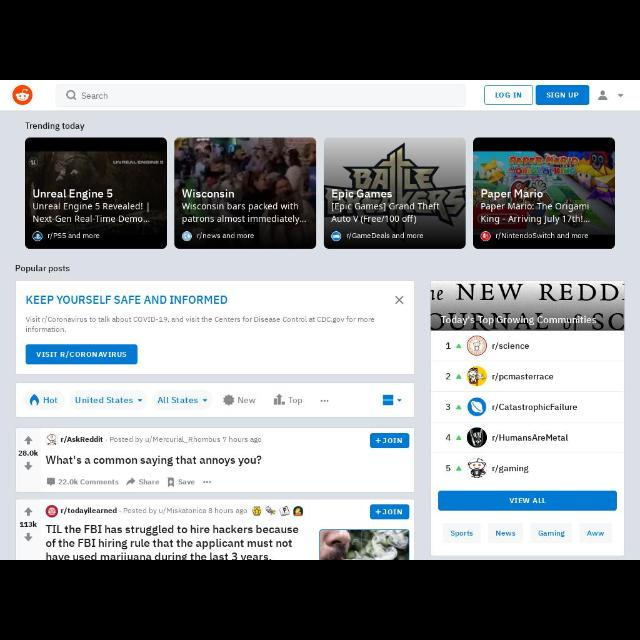icon: (55, 84, 467, 106), (64, 89, 76, 103), (382, 394, 396, 406), (272, 394, 286, 406), (595, 90, 607, 102), (28, 394, 40, 406), (222, 394, 234, 406), (393, 295, 405, 305), (124, 478, 136, 487), (23, 506, 33, 516), (166, 476, 174, 488), (23, 435, 32, 445), (23, 460, 32, 470), (23, 532, 32, 542), (46, 478, 56, 486), (320, 397, 330, 403), (616, 92, 624, 98), (202, 480, 212, 484), (455, 343, 461, 349), (456, 374, 462, 380), (456, 404, 462, 410), (456, 465, 462, 471), (202, 398, 208, 404), (455, 436, 463, 440), (396, 398, 402, 402), (138, 398, 142, 402)
image: (23, 137, 166, 249), (324, 137, 466, 249), (472, 138, 616, 248), (174, 137, 316, 247), (430, 280, 626, 330), (11, 84, 33, 106), (466, 428, 488, 448), (467, 366, 488, 386), (467, 458, 488, 478), (467, 336, 487, 356), (466, 398, 486, 417), (44, 434, 58, 446), (44, 505, 58, 517), (292, 505, 304, 517), (31, 230, 43, 242), (180, 230, 192, 242), (329, 231, 341, 243), (479, 230, 491, 242), (251, 505, 261, 517), (264, 506, 276, 516), (278, 506, 290, 516)
spinner: (71, 392, 147, 408), (154, 391, 212, 409)
text: (45, 523, 299, 559), (25, 314, 375, 334), (44, 454, 262, 468), (182, 201, 308, 225), (32, 201, 152, 225), (481, 200, 595, 224), (330, 201, 440, 225), (25, 294, 227, 306), (122, 506, 248, 516), (110, 436, 262, 444), (34, 351, 126, 362), (32, 189, 114, 201), (490, 402, 578, 413), (479, 187, 546, 201), (494, 231, 590, 239), (492, 432, 568, 442), (331, 188, 394, 200), (24, 120, 86, 132), (73, 394, 133, 406), (491, 372, 554, 383), (180, 188, 236, 200), (345, 232, 425, 240), (13, 264, 71, 274), (46, 232, 102, 242), (57, 478, 119, 486), (491, 464, 531, 476), (196, 232, 254, 240), (61, 507, 118, 515), (156, 396, 198, 406), (507, 495, 547, 505), (60, 436, 104, 444), (545, 90, 579, 100), (490, 342, 530, 350), (493, 90, 523, 100), (374, 506, 404, 516), (449, 528, 475, 538), (536, 530, 566, 538), (373, 437, 402, 445), (81, 92, 109, 100), (17, 448, 38, 458), (238, 395, 258, 405), (138, 478, 160, 486), (494, 530, 516, 538), (42, 394, 58, 404), (586, 529, 604, 537), (288, 396, 302, 406), (178, 479, 195, 486), (20, 522, 38, 528), (443, 372, 452, 381), (444, 340, 452, 350), (444, 402, 452, 412), (444, 433, 452, 442), (445, 464, 451, 472)
textbutton: (438, 490, 618, 512), (26, 344, 138, 366), (536, 84, 590, 106), (484, 84, 534, 106), (530, 522, 572, 542), (24, 390, 64, 410), (220, 391, 260, 409), (270, 391, 310, 409), (370, 432, 410, 450), (442, 523, 482, 541), (488, 523, 524, 543), (370, 504, 410, 520), (580, 523, 612, 543)
toolbar: (0, 81, 638, 111), (17, 382, 415, 418)
